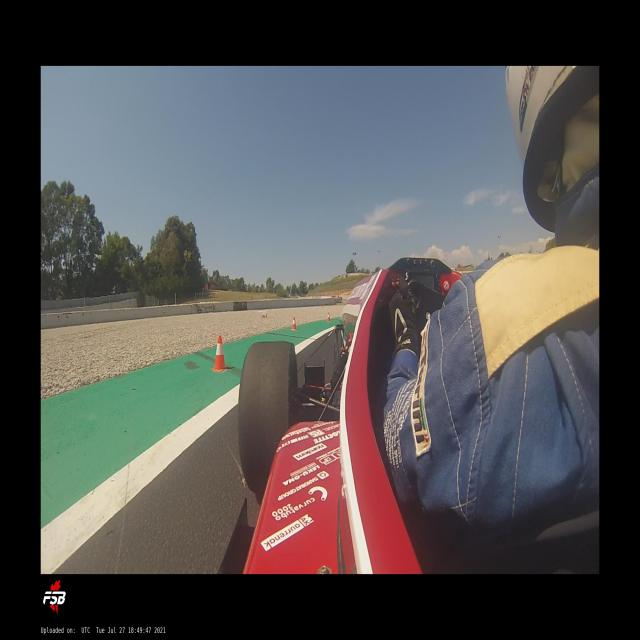orange_cone: (210, 335, 228, 371), (292, 317, 296, 330), (327, 312, 330, 322)
